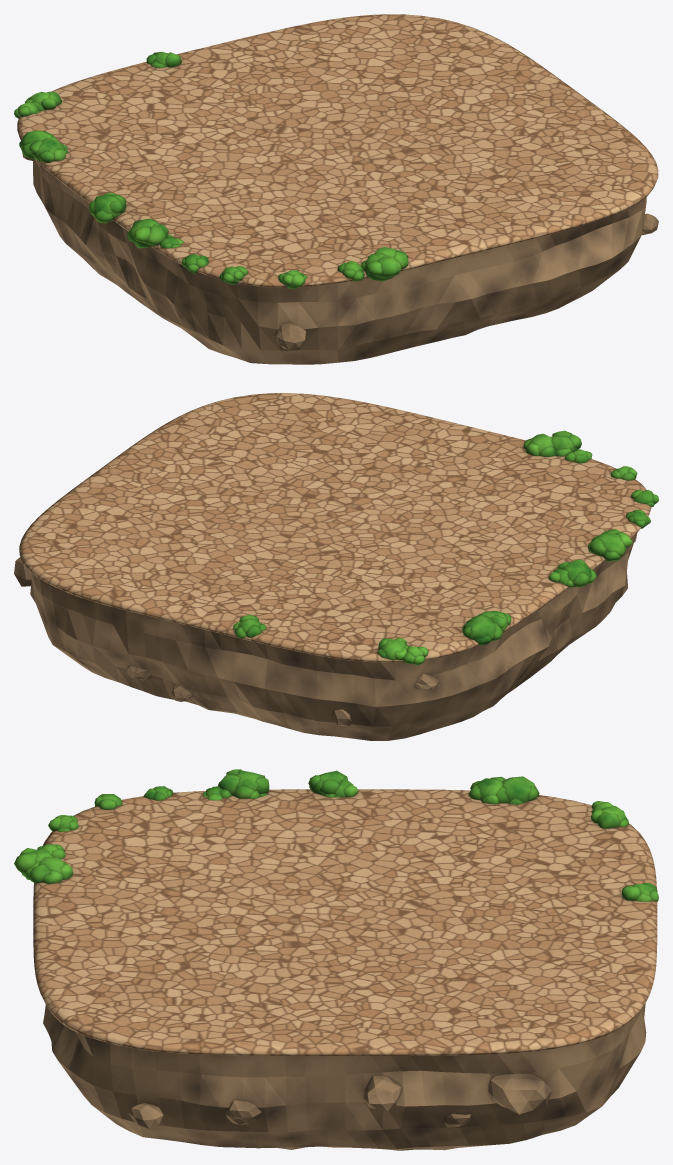
The model's file is PisaPlaza_Island.fbx.
3 renders of one model, top to bottom at view 1: azimuth 30°, elevation 25°; view 2: azimuth 150°, elevation 25°; view 3: azimuth 270°, elevation 25°, orthographic. The views are drawn at different scales.
Visible parts, largest first — view 1: Island_Top, Island_Body; view 2: Island_Top, Island_Body; view 3: Island_Top, Island_Body.
Boxes of the visible parts, box(x1,y1,x2,y2) form: Island_Top: box(14, 14, 658, 289); Island_Body: box(22, 153, 658, 364); Island_Top: box(19, 393, 658, 665); Island_Body: box(14, 533, 637, 740); Island_Top: box(14, 769, 658, 1055); Island_Body: box(43, 1003, 646, 1150).
Bounding box in the file's own units: 16.73 × 5.47 × 16.61.
1 material, 1 textured.
